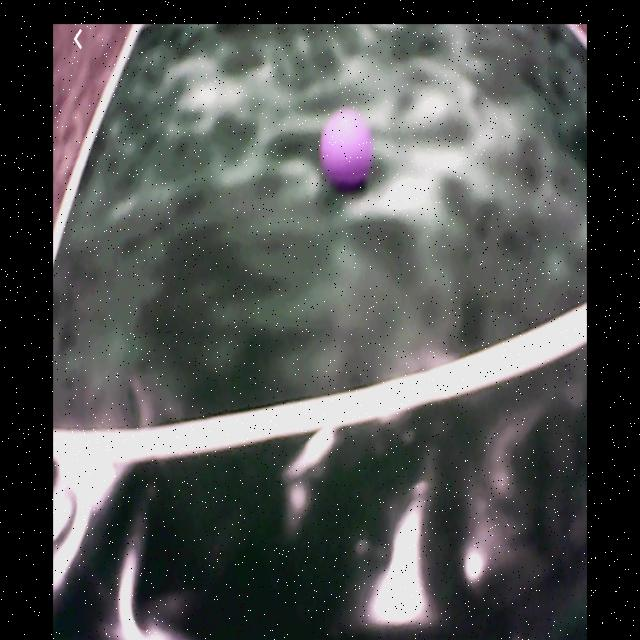ball: (321, 107, 374, 190)
